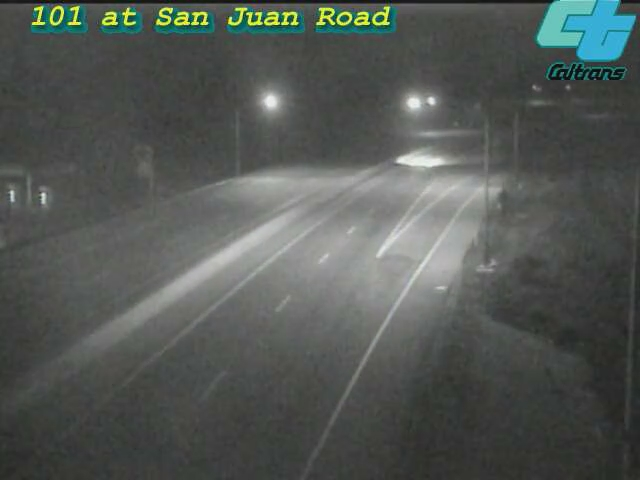vehicle: (387, 118, 467, 198)
